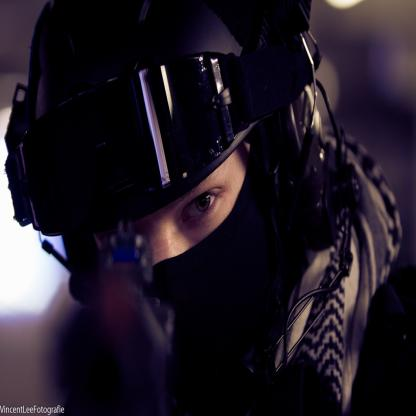Helmet: (6, 0, 369, 416)
